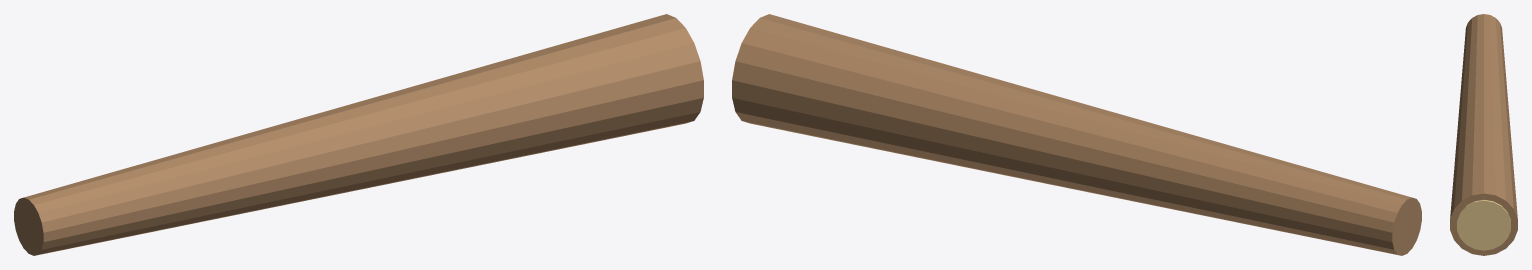
The model's file is fallen_palm_trunk_tropical_island_and_palm_trees_6806.glb.
The picture shows the model from 3 angles, left to right: view 1: azimuth 30°, elevation 25°; view 2: azimuth 150°, elevation 25°; view 3: azimuth 270°, elevation 25°; orthographic projection. The views are drawn at different scales.
Visible parts, largest first — view 1: fallen-palm-trunk; view 2: fallen-palm-trunk; view 3: fallen-palm-trunk.
Boxes of the visible parts, <box> form: fallen-palm-trunk: <box>14,14,703,255</box>; fallen-palm-trunk: <box>732,14,1421,255</box>; fallen-palm-trunk: <box>1450,14,1517,255</box>.
Size of the model in its own units: 4.02 by 0.6001 by 0.5908.
